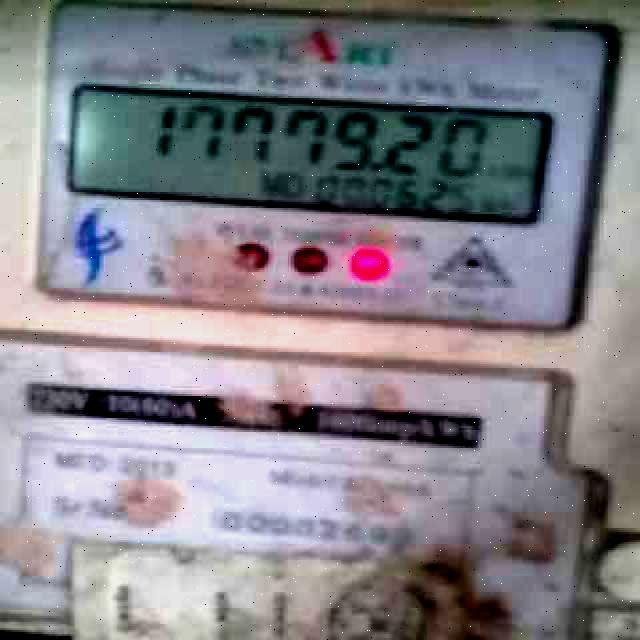LCD: (60, 76, 563, 232)
